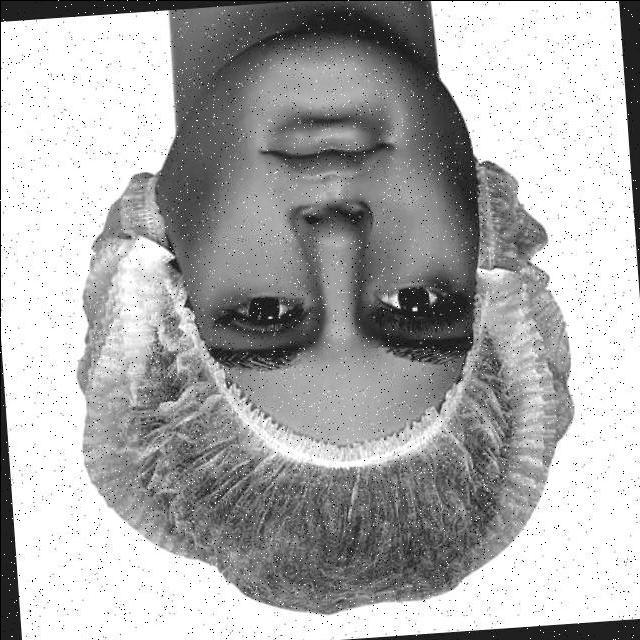gloves: (58, 348, 582, 630)
no_hairnet: (158, 74, 470, 244)
